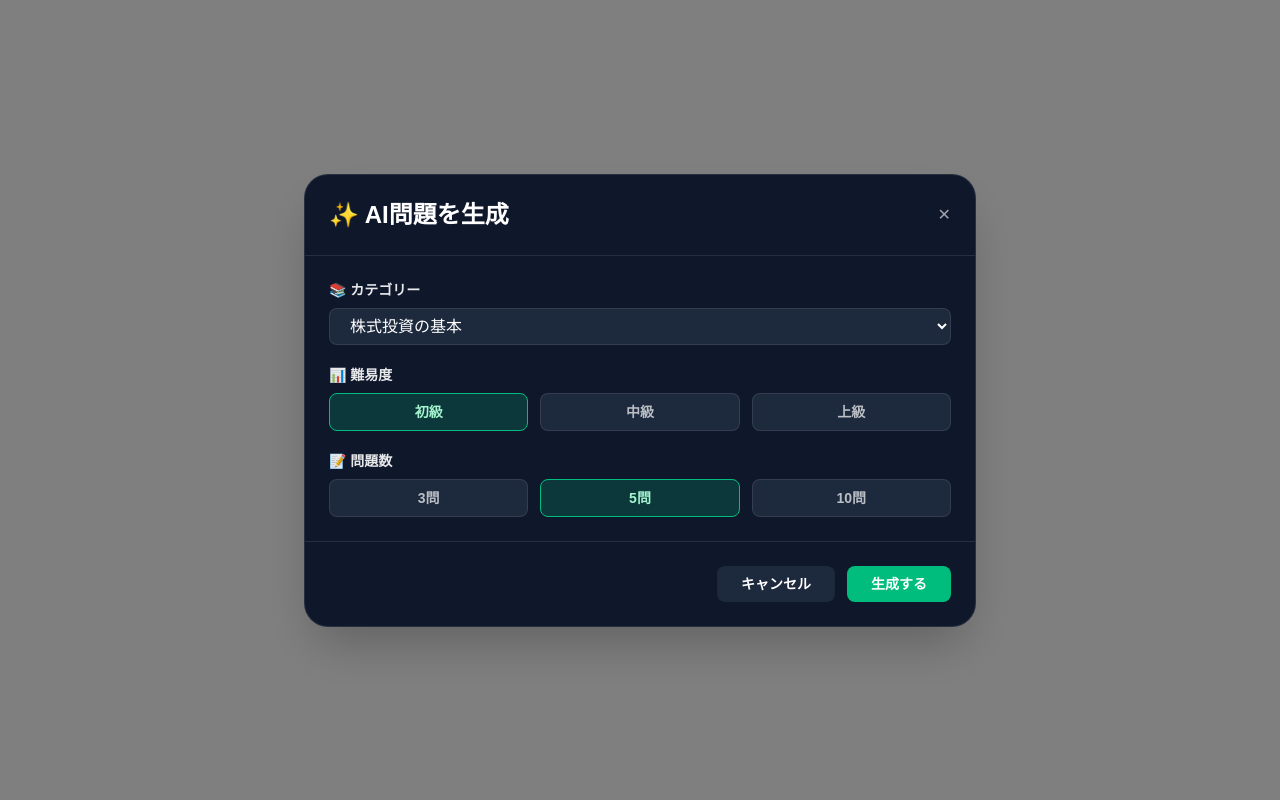
Test: AIQuestionGeneratorModal › displays error message on API failure
Click the button "生成する": (899, 584) left=847, top=566, right=951, bottom=602
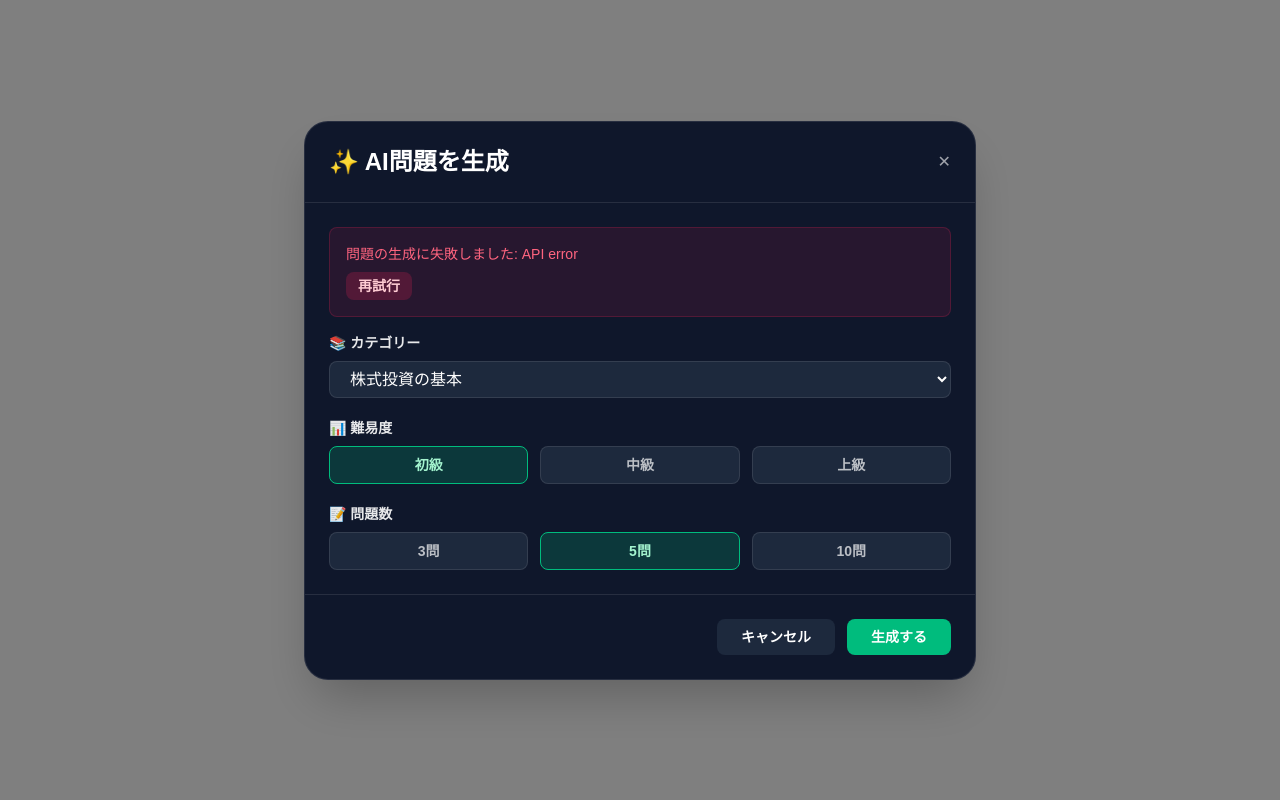
Expected: the text "問題の生成に失敗しました: API error" is shown, left=346, top=246, right=578, bottom=262
